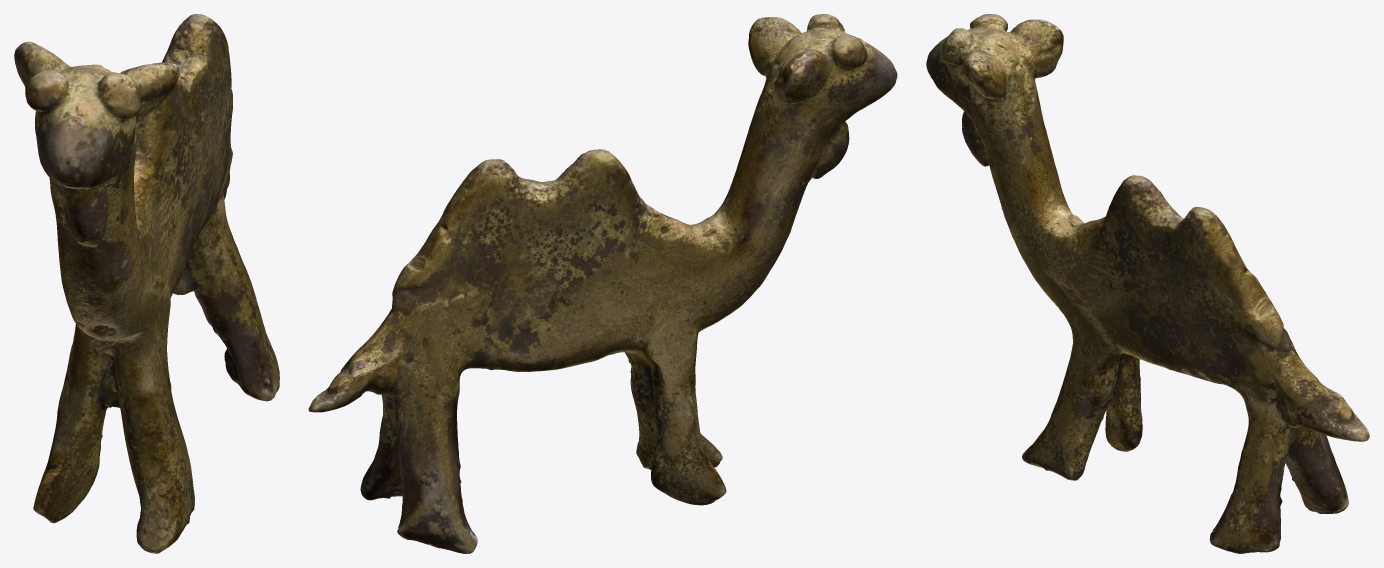
The model's file is preview.glb.
3 renders of one model, left to right at view 1: azimuth 30°, elevation 25°; view 2: azimuth 150°, elevation 25°; view 3: azimuth 270°, elevation 25°, orthographic. The views are drawn at different scales.
Parts seen in each view (by area): view 1: Object_2; view 2: Object_2; view 3: Object_2.
Boxes of the visible parts, left/top/right/bottom form: Object_2: left=14, top=14, right=279, bottom=553; Object_2: left=308, top=14, right=897, bottom=553; Object_2: left=926, top=14, right=1369, bottom=553.
Bounding box in the file's own units: 0.1303 × 0.1528 × 0.153.
1 material, 1 textured.
